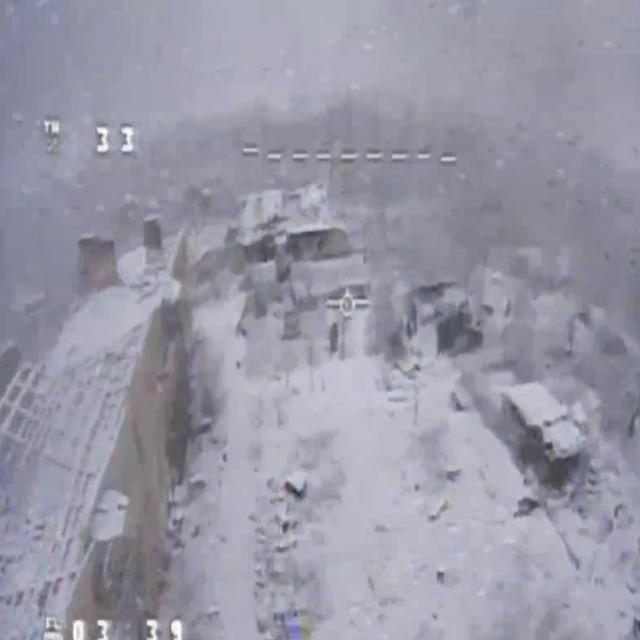infantry: (329, 320, 340, 356)
